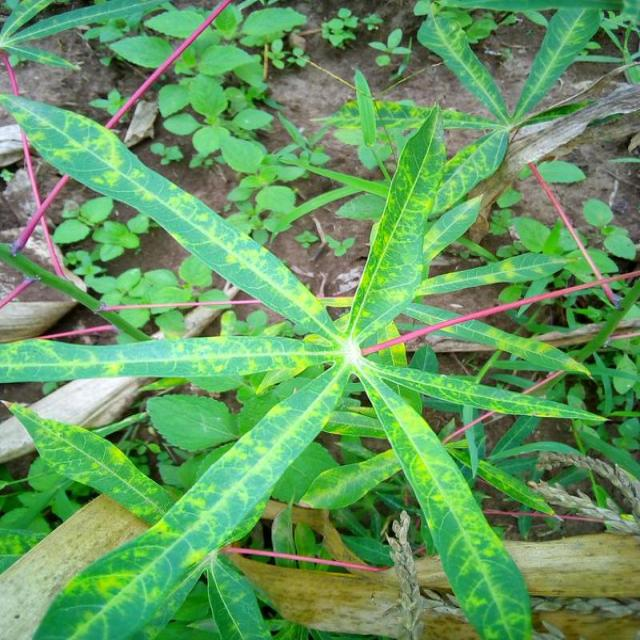cassava leaf: (2, 81, 630, 638), (1, 90, 340, 342)
